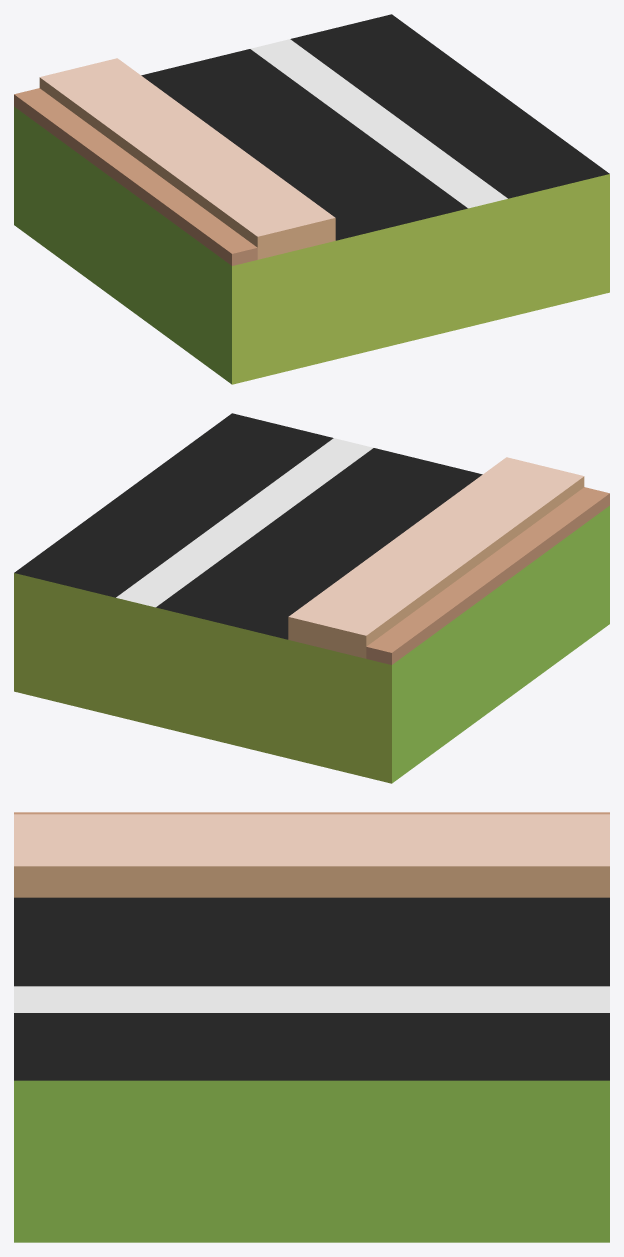
Rendered from floor_road1.fbx.
3 views of the same model, one above another, from view 1: azimuth 30°, elevation 25°; view 2: azimuth 150°, elevation 25°; view 3: azimuth 270°, elevation 25° (orthographic). The views are drawn at different scales.
Parts seen in each view (by area): view 1: floor_road1; view 2: floor_road1; view 3: floor_road1.
Boxes of the visible parts, x1=… form: floor_road1: x1=14, y1=14, x2=609, y2=384; floor_road1: x1=14, y1=413, x2=609, y2=783; floor_road1: x1=14, y1=812, x2=609, y2=1242.
Size of the model in its own units: 100 by 35.83 by 100.
